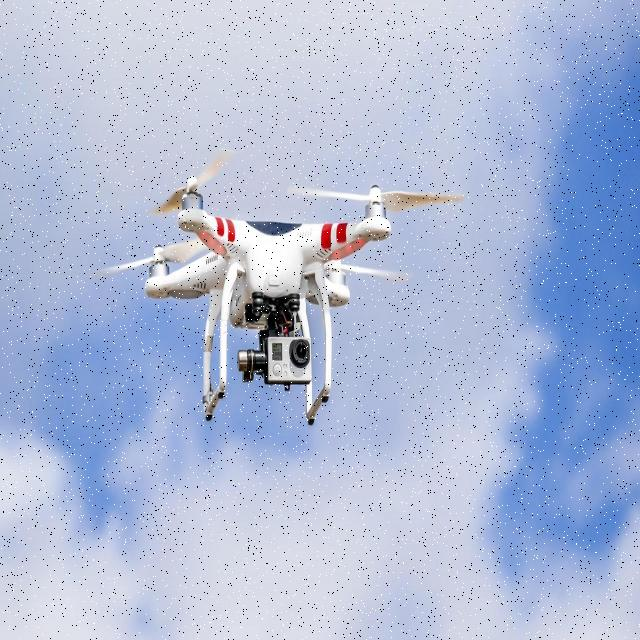UAV: (140, 172, 393, 426)
